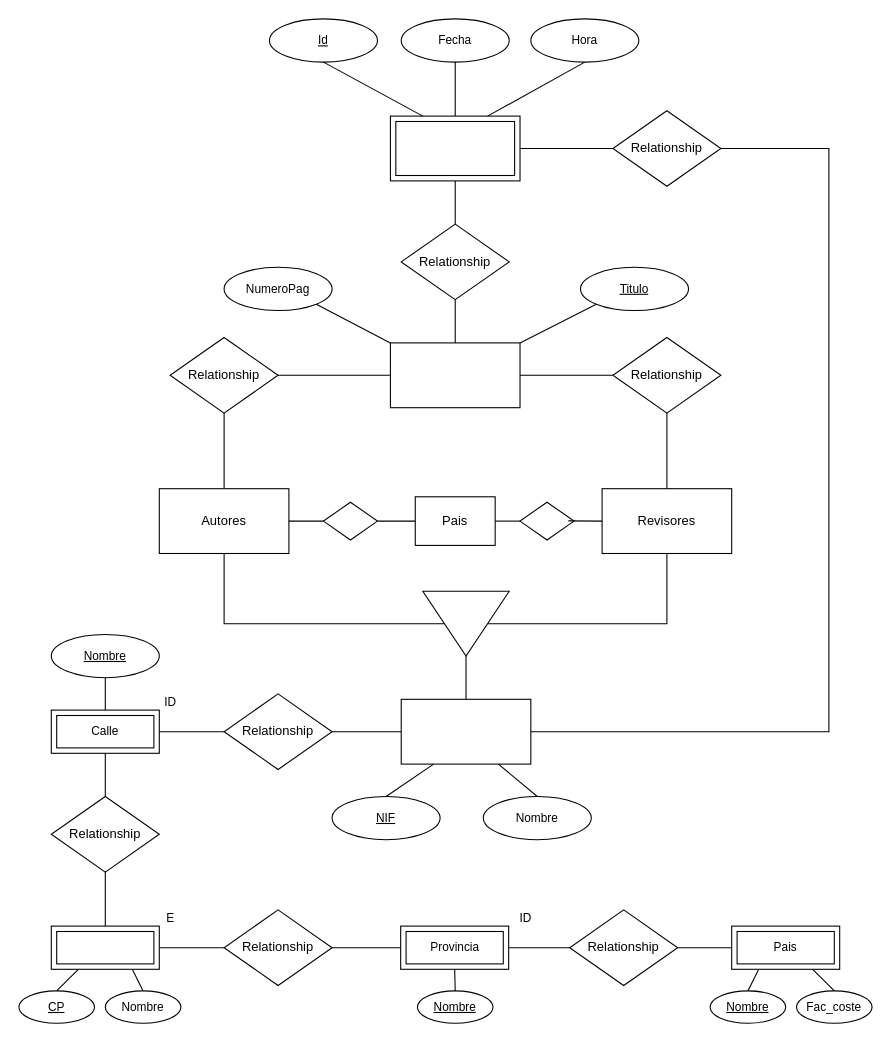
The diagram is 891 pixels wide and 1042 high, and some of its shapes have lost their labels. The box of each missing label's shape, as (x1, y1, x2, y2) in pixels:
Ciudad: (50, 925, 159, 969)
Participantes: (400, 698, 531, 764)
Ponencias: (389, 342, 520, 408)
Sesion: (389, 115, 520, 181)
